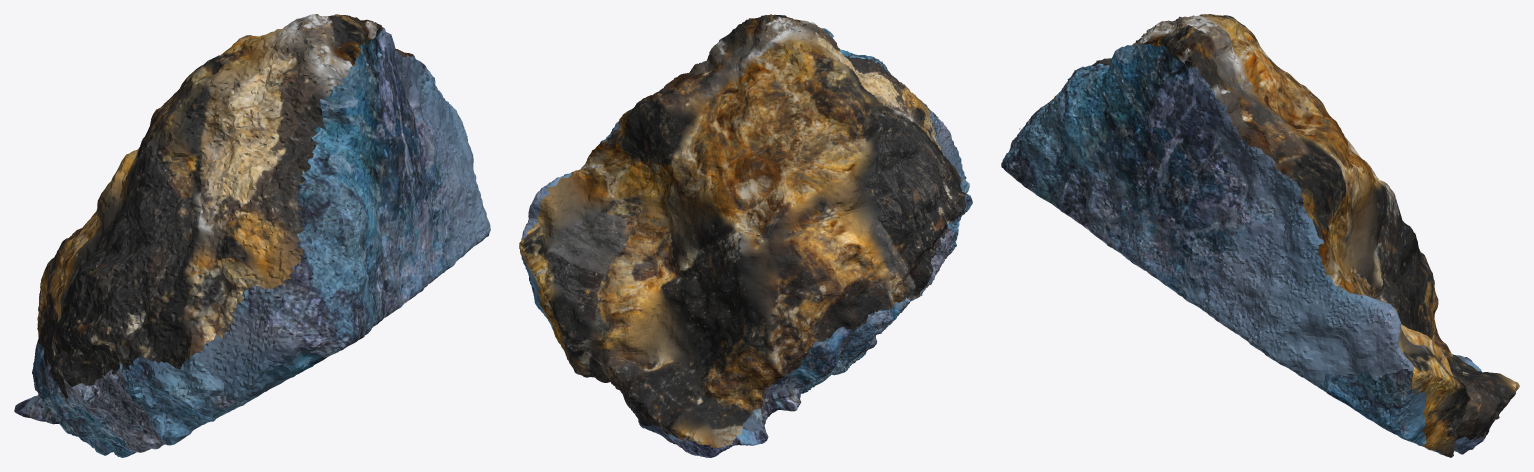
3 renders of one model, left to right at view 1: azimuth 30°, elevation 25°; view 2: azimuth 150°, elevation 25°; view 3: azimuth 270°, elevation 25°, orthographic. The views are drawn at different scales.
Visible parts, largest first — view 1: Model; view 2: Model; view 3: Model.
Boxes of the visible parts, left/top/right/bottom form: Model: left=14, top=14, right=490, bottom=457; Model: left=519, top=14, right=972, bottom=457; Model: left=1001, top=14, right=1519, bottom=457.
Size of the model in its own units: 1.64 by 1.76 by 1.61.
